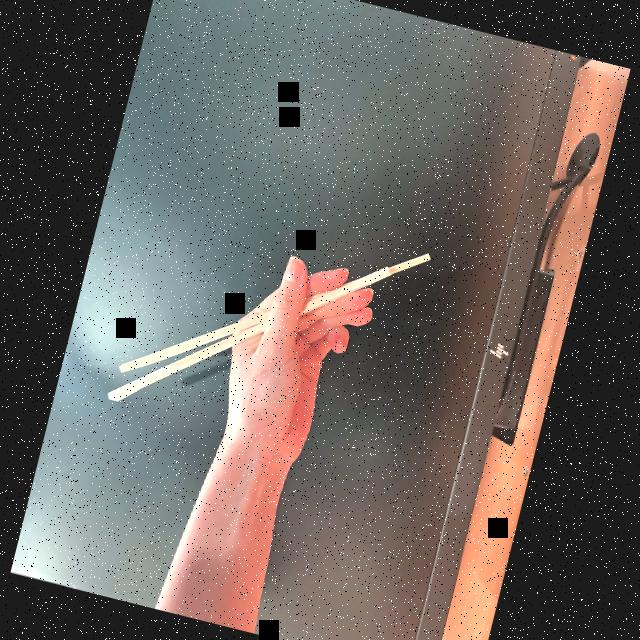stick: (105, 184, 434, 466)
